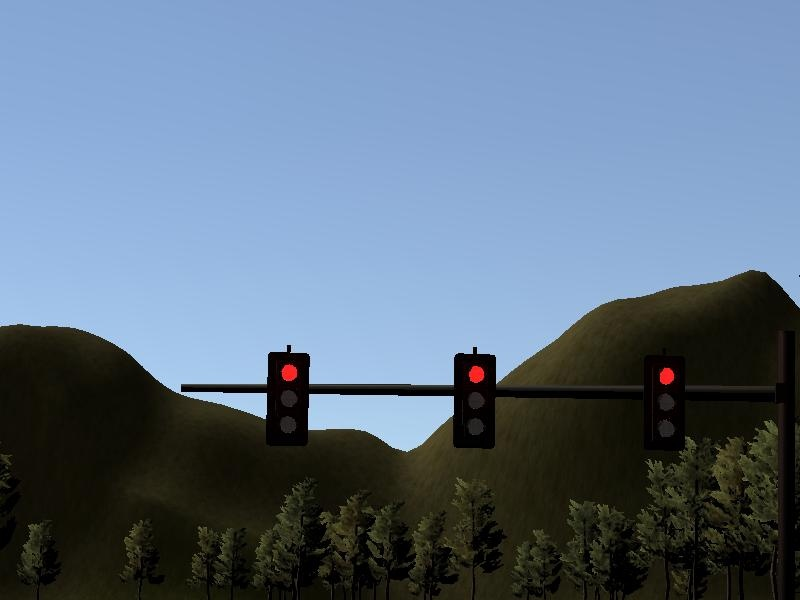red: (265, 350, 312, 445), (641, 354, 687, 448), (451, 351, 495, 449)
